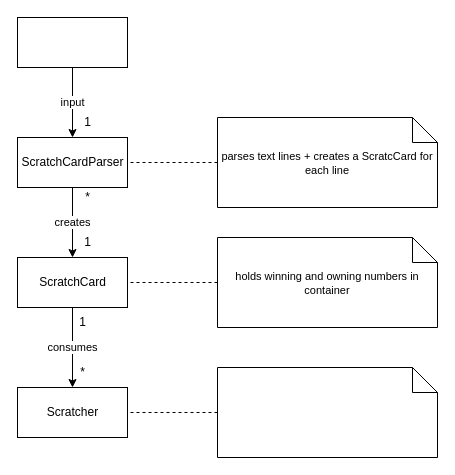
Image size: 455x475. Some labels were removed from this diagram. The shapes that lost their labels are listed below. From the top down, each one's box as (x1, y1, x2, y2) in pixels, then its label:
(16, 16, 128, 68): textfile
(216, 366, 438, 458): calculates Points for each ScratchCard, accumulates points of pile
